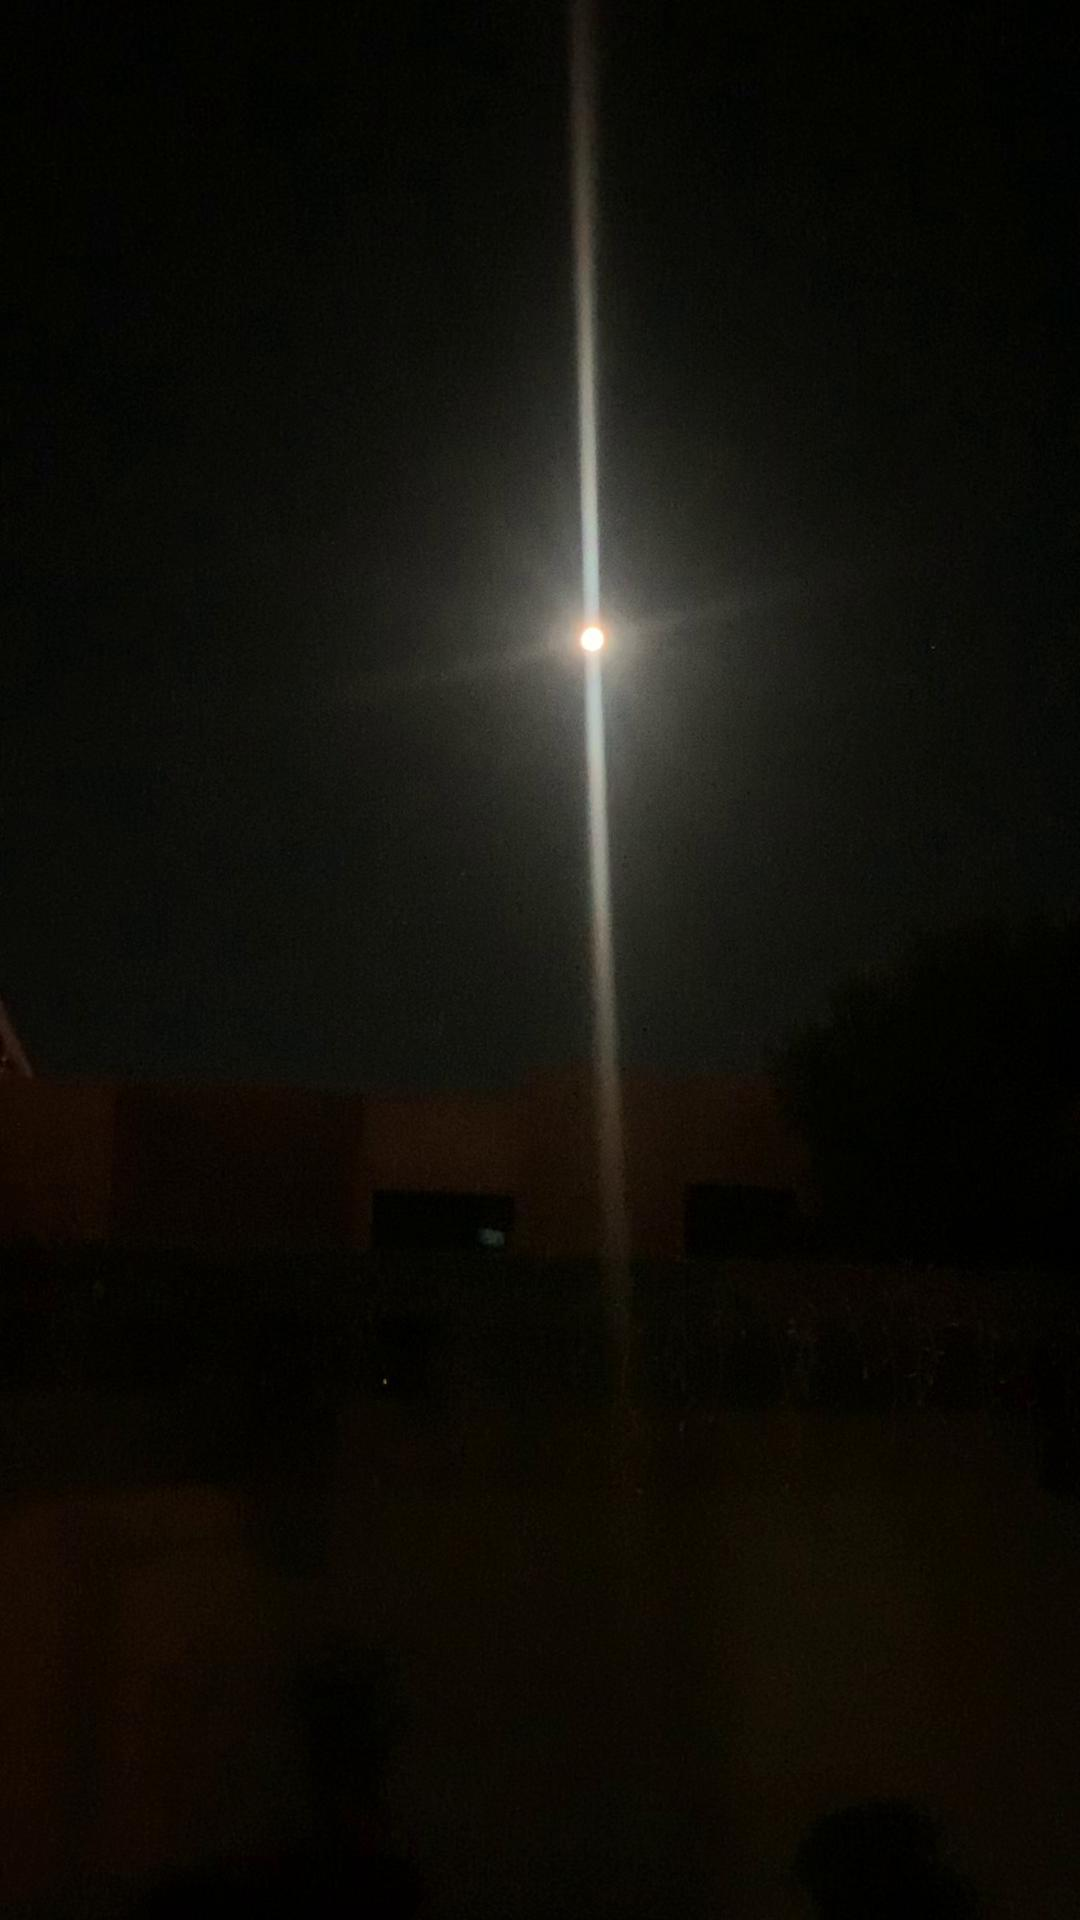moon: (556, 599, 632, 678)
